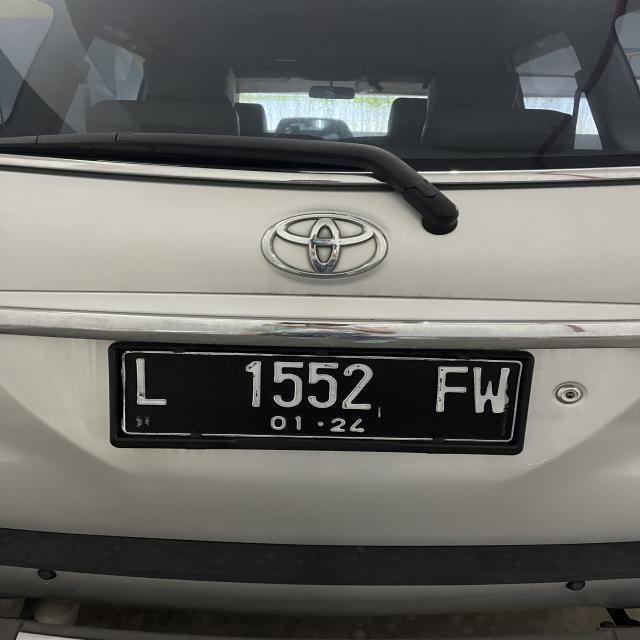1: (243, 360, 263, 404)
2: (343, 363, 374, 409)
5: (274, 360, 304, 413), (308, 364, 340, 409)
F: (428, 364, 467, 414)
L: (129, 353, 172, 412)
W: (468, 364, 510, 416)
